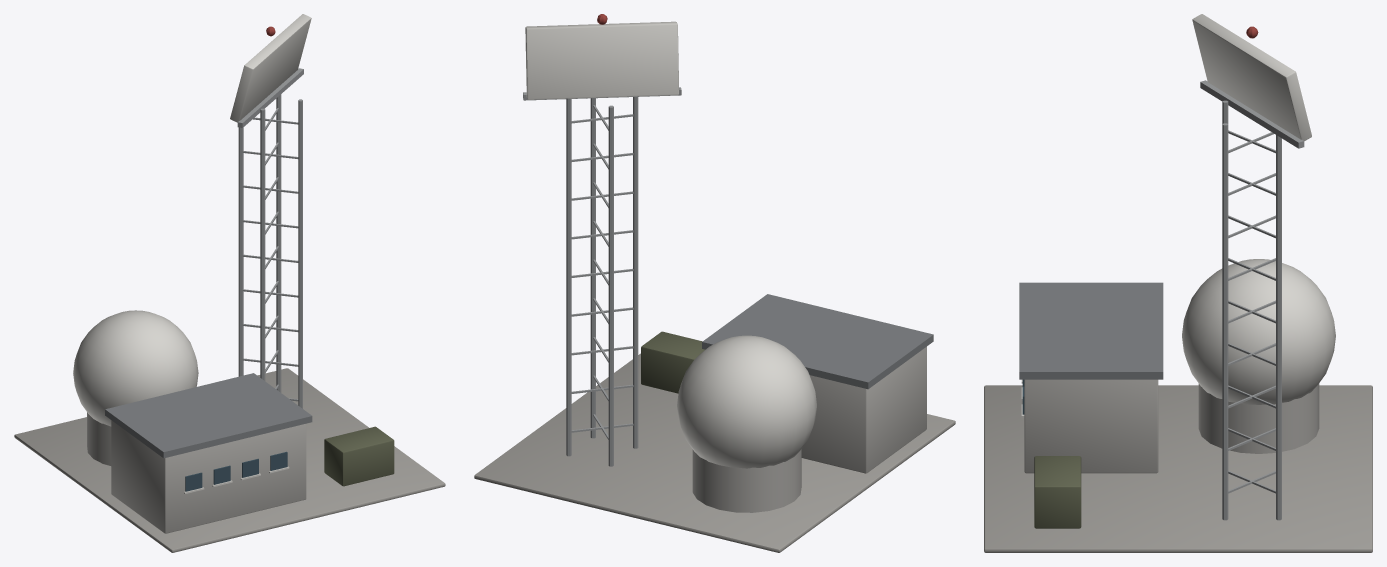
The model's file is radar_station.glb.
3 renders of one model, left to right at view 1: azimuth 30°, elevation 25°; view 2: azimuth 150°, elevation 25°; view 3: azimuth 270°, elevation 25°, orthographic. The views are drawn at different scales.
Visible parts, largest first — view 1: body; view 2: body; view 3: body.
Part boxes in pixels (<box>): body: <box>14,14,445,552</box>; body: <box>474,14,955,552</box>; body: <box>984,14,1372,552</box>.
Size of the model in its own units: 11.6 by 16.03 by 11.6.
